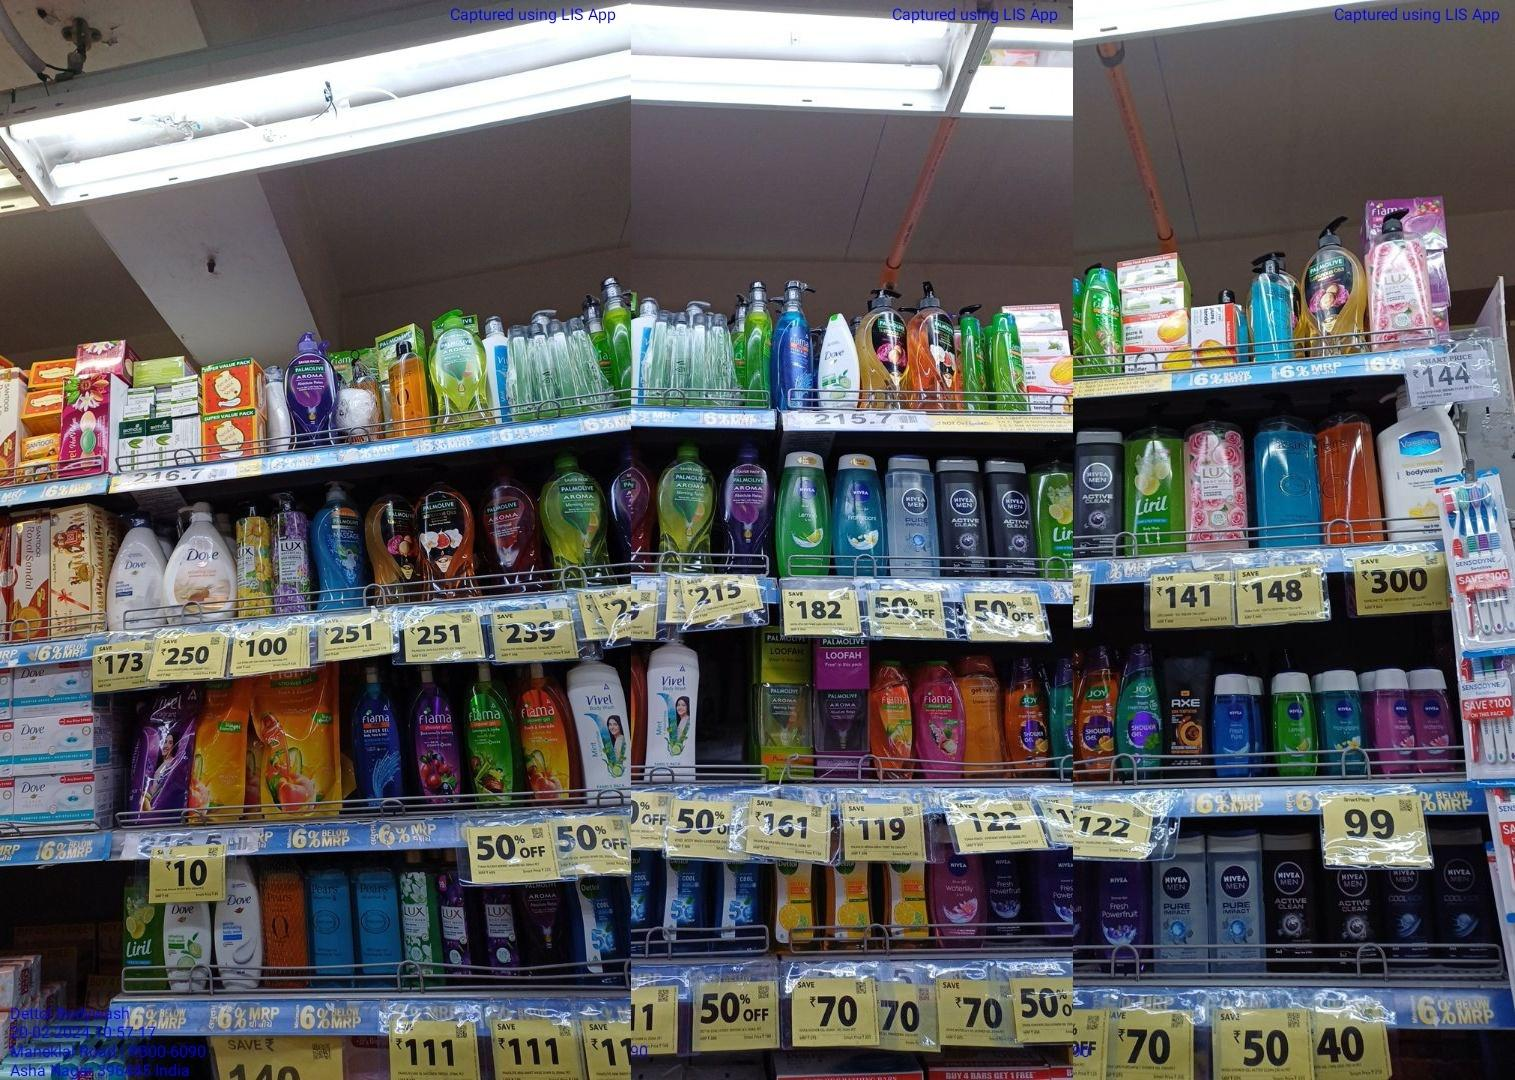Dettol_Bodywash_Cool: (575, 880, 623, 983), (659, 857, 707, 948), (718, 861, 761, 947)
Dettol_Bodywash_Refresh: (825, 861, 874, 949), (881, 864, 931, 948), (772, 859, 817, 949)
Dove_Gentle_Exfoliating_Body_Wash_250ML: (216, 900, 262, 989)
Dove_Refreshing_Body_Wash_250ML: (165, 900, 212, 994), (818, 313, 859, 409)
Fiama_Shower_Gel_Patchouli_and_Macadamia_250ML: (921, 662, 967, 778)
Fiama_Shower_Gel_Peach_and_Avocado_250ML: (872, 657, 918, 780)
Get_Real_Shower_Gel_Moisturising_Glycerin_300ML: (968, 656, 1005, 777)
Joy_Shower_Gel_Mandarin_and_Lemongrass_250ML: (1077, 643, 1116, 780), (1009, 655, 1052, 776)
Joy_Shower_Gel_Mint_and_Eucalyptus_250ML: (1120, 644, 1162, 778)
Liril_Lime_and_Tea_Tree_Oil_Body_Wash_250ML: (123, 860, 157, 991)
Lux_Black_Orchid_Scent_and_Juniper_Oil_Body_Wash_245ML: (482, 888, 524, 978), (441, 884, 471, 984)
Lux_Body_Wash_Skin_Detox_Freesia_Scent_and_Alove_Vera_245ML: (406, 847, 438, 989)
Nivea_Shower_Gel_Frangipani_and_Oil_250ML: (833, 451, 884, 573)
Nivea_Shower_Gel_Fresh_Powerfruit_250ML: (1094, 863, 1148, 976), (989, 852, 1026, 942)
Nivea_Shower_Gel_Lemon_and_Oil_250ML: (780, 446, 829, 574)
Nivea_Shower_Gel_Waterlily_and_Oil_250ML: (934, 854, 985, 944)
Palmolive_Aroma_Relax_250ML: (528, 882, 570, 977)
Pears_Pure_Glycerin_and_Mint_Extracts_Body_Wash_250ML: (310, 854, 355, 986), (359, 853, 402, 992)
